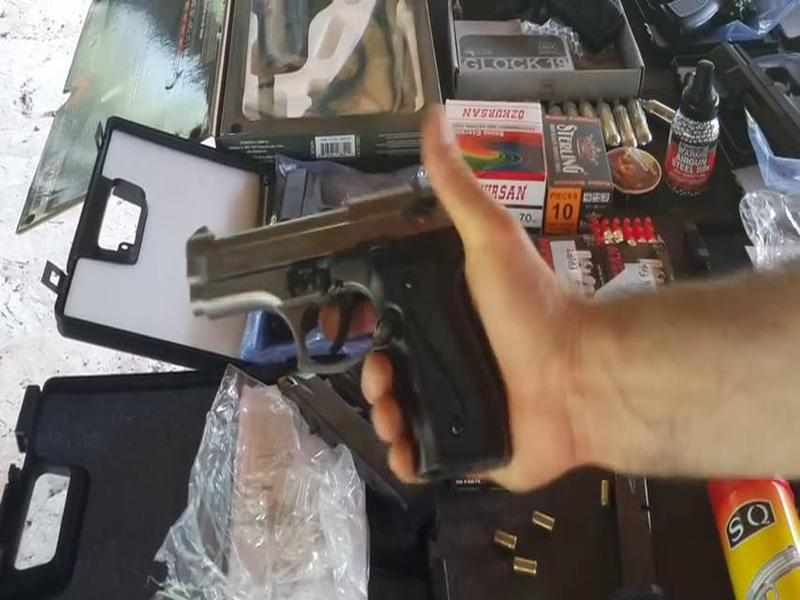Pistola: (152, 196, 524, 472)
